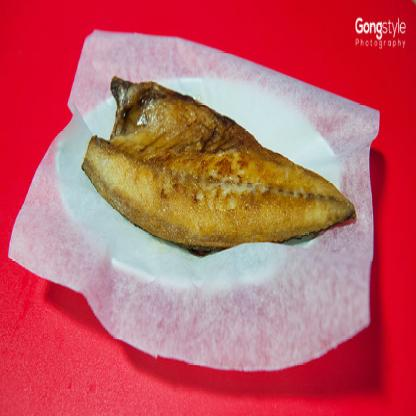Peixe: (86, 56, 345, 299)
